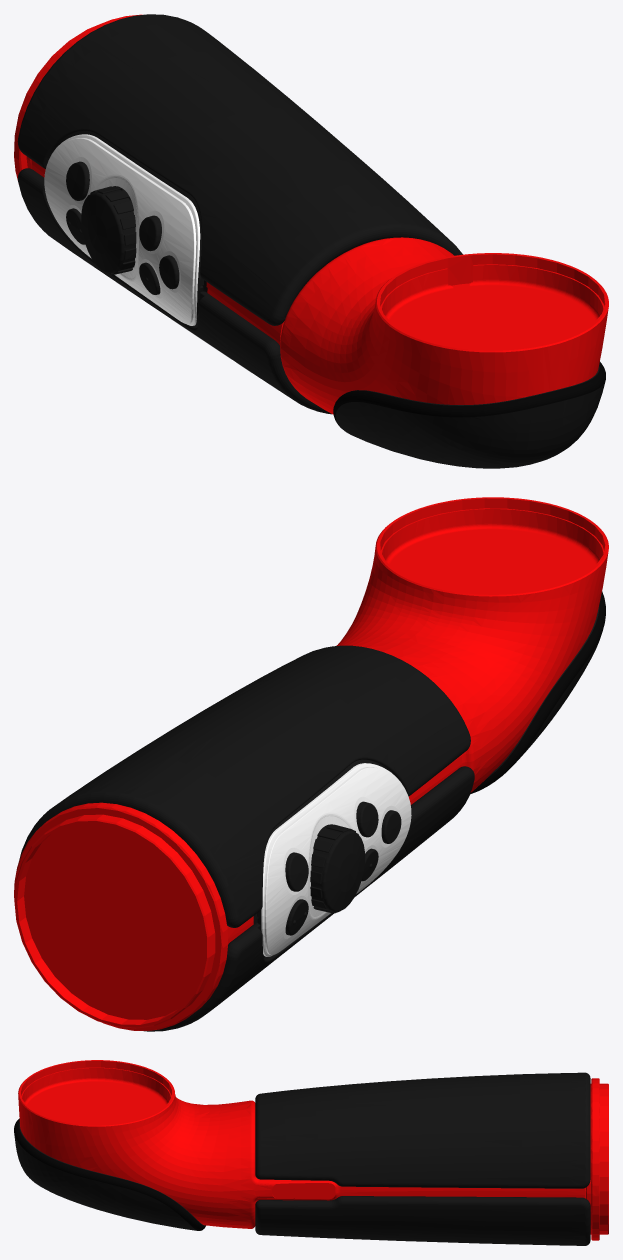
File: right_l4_visuals_mesh_0.obj
3 views of the same model, one above another, from view 1: azimuth 30°, elevation 25°; view 2: azimuth 150°, elevation 25°; view 3: azimuth 270°, elevation 25° (orthographic). The views are drawn at different scales.
Size of the model in its own units: 0.0995 by 0.0939 by 0.3222.
